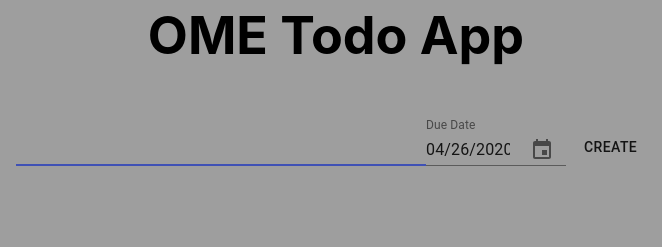
Test: can create a todo
In the field with test id "name-input": point(221, 150) [16, 134, 426, 166], type "stuff to do"
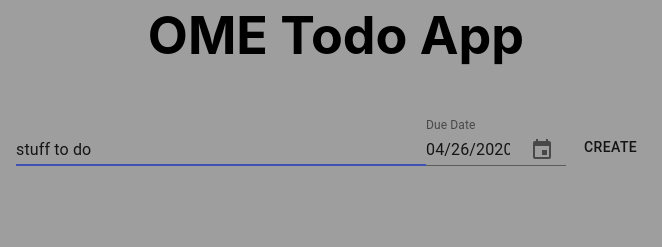
Click the button "Create": point(611, 147) [576, 129, 645, 166]
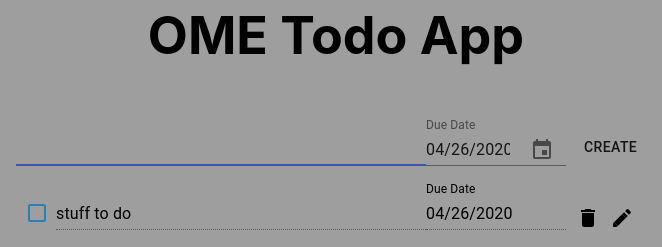
Now the 1st field with test id "name-input" is empty, box [16, 134, 426, 166]
Now the 2nd field with test id "name-input" holds "stuff to do", box [56, 198, 426, 230]
